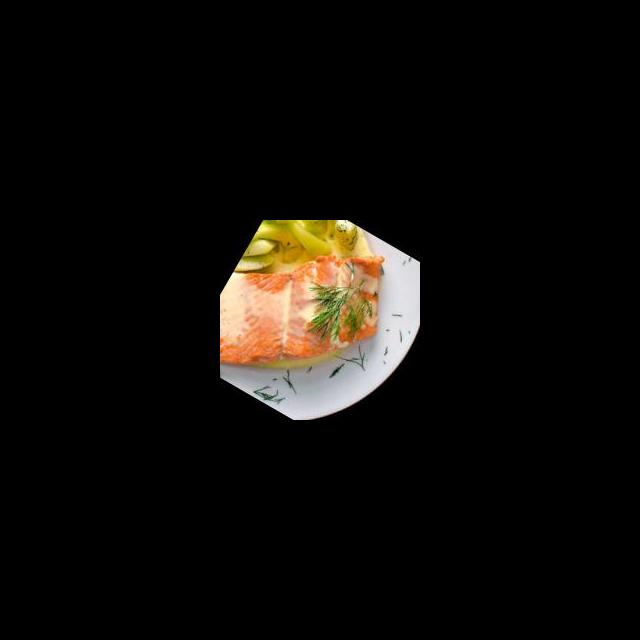ca hoi: (220, 220, 412, 420)
